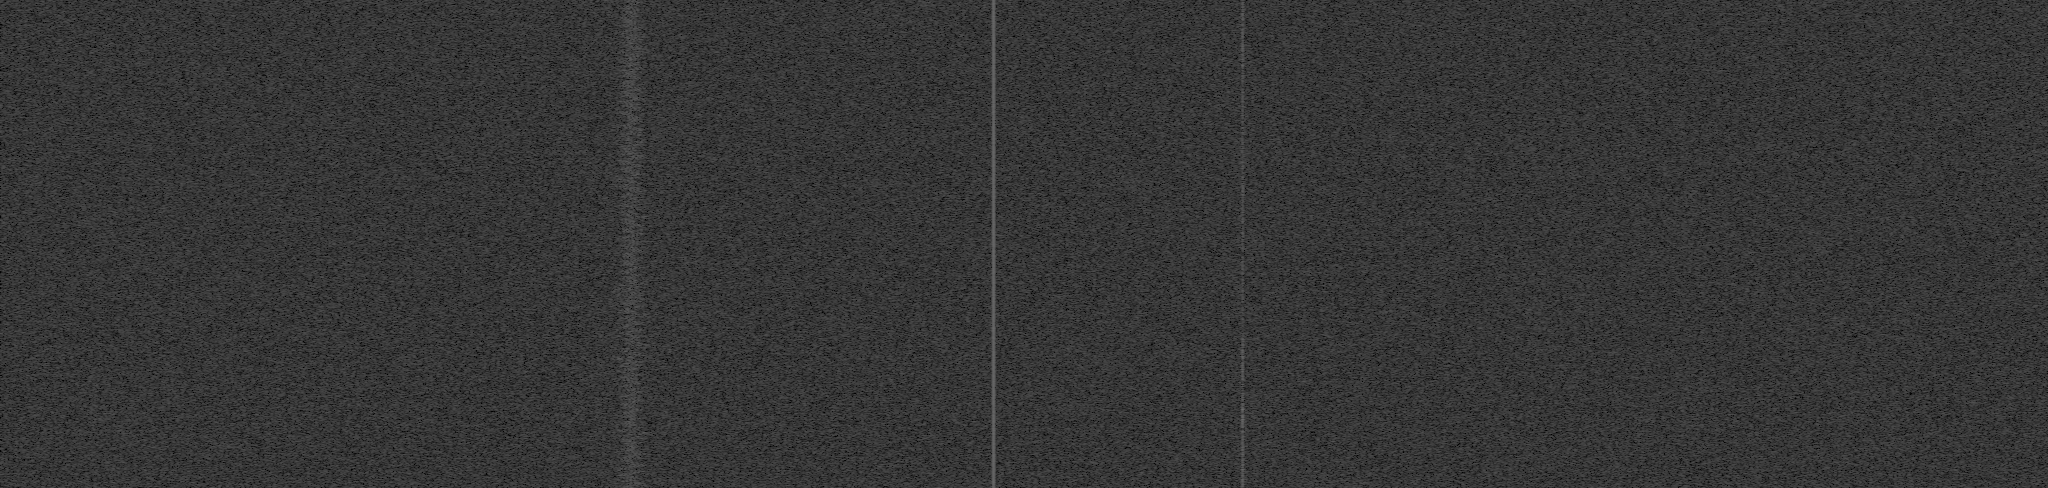wv_am: (991, 0, 997, 488)
wv_lsb: (1240, 253, 1246, 488), (1240, 13, 1245, 181), (1240, 183, 1245, 252), (1240, 1, 1245, 12)
wv_wbfm: (611, 0, 653, 488)
